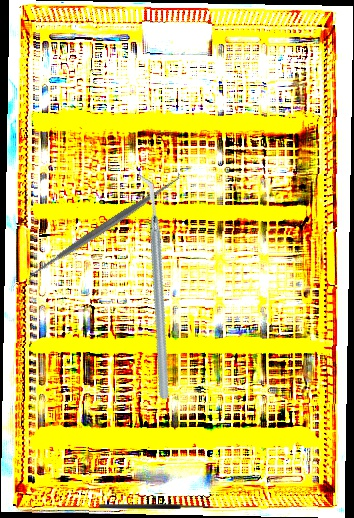Chopper: (68, 170, 240, 402)
Hook Surgical: (99, 498, 213, 509)
Spatula Surgical: (19, 168, 188, 289)
